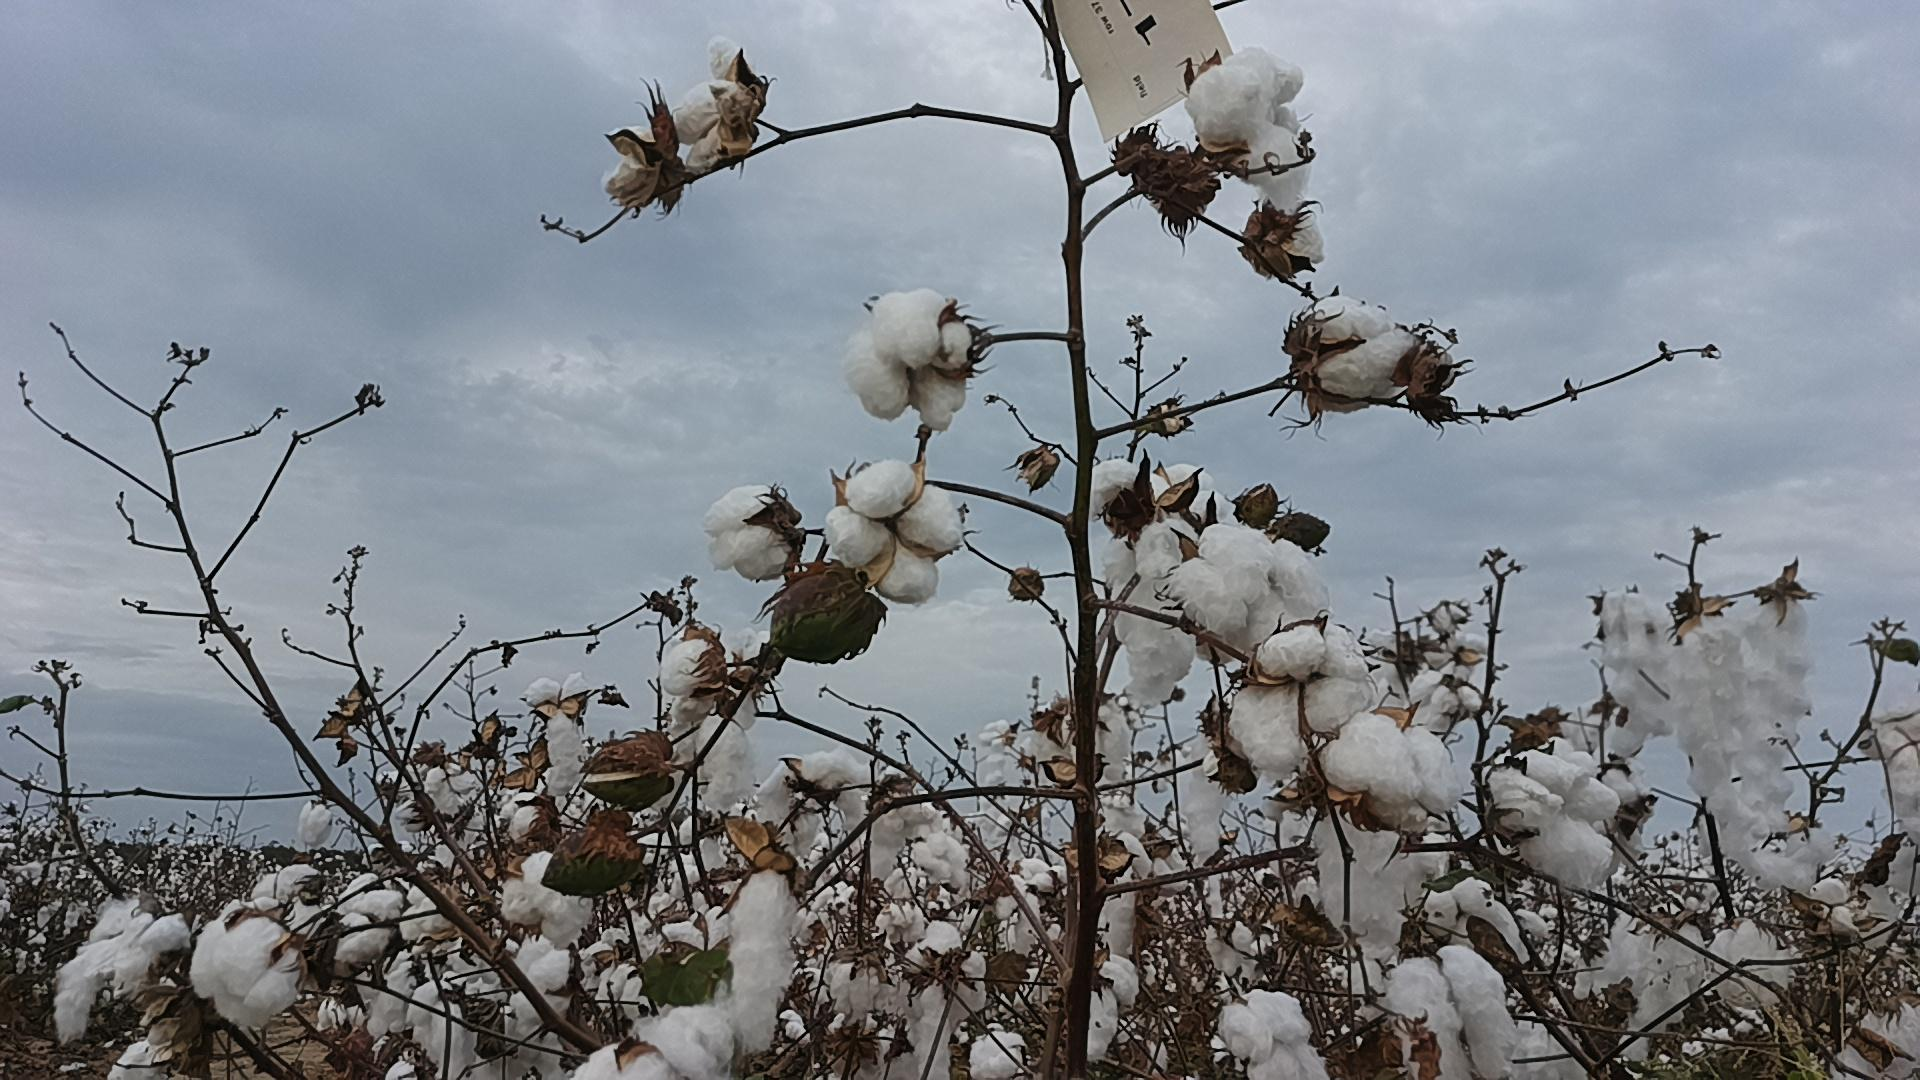cotton_ready: (1677, 616, 1836, 889), (1224, 616, 1378, 773), (1188, 46, 1313, 218), (822, 462, 965, 605), (50, 899, 190, 1046), (1487, 736, 1619, 889), (844, 290, 978, 435), (1382, 940, 1520, 1080), (1176, 524, 1328, 645), (1743, 585, 1816, 837), (1313, 808, 1451, 939), (1088, 458, 1228, 585), (1321, 711, 1465, 829), (187, 901, 310, 1033), (898, 915, 993, 1080), (1584, 909, 1708, 1033), (1294, 293, 1420, 411), (650, 683, 761, 811), (729, 865, 802, 1055), (574, 1006, 736, 1080), (671, 36, 756, 169), (1213, 990, 1338, 1080), (1116, 579, 1197, 708), (756, 745, 876, 829), (700, 480, 798, 583), (498, 849, 596, 943), (1709, 915, 1797, 1013), (1596, 580, 1688, 671), (1832, 988, 1920, 1080), (1870, 705, 1920, 849), (1077, 956, 1145, 1063), (1606, 655, 1681, 733), (654, 638, 720, 725), (1255, 199, 1323, 268), (608, 128, 663, 198)
